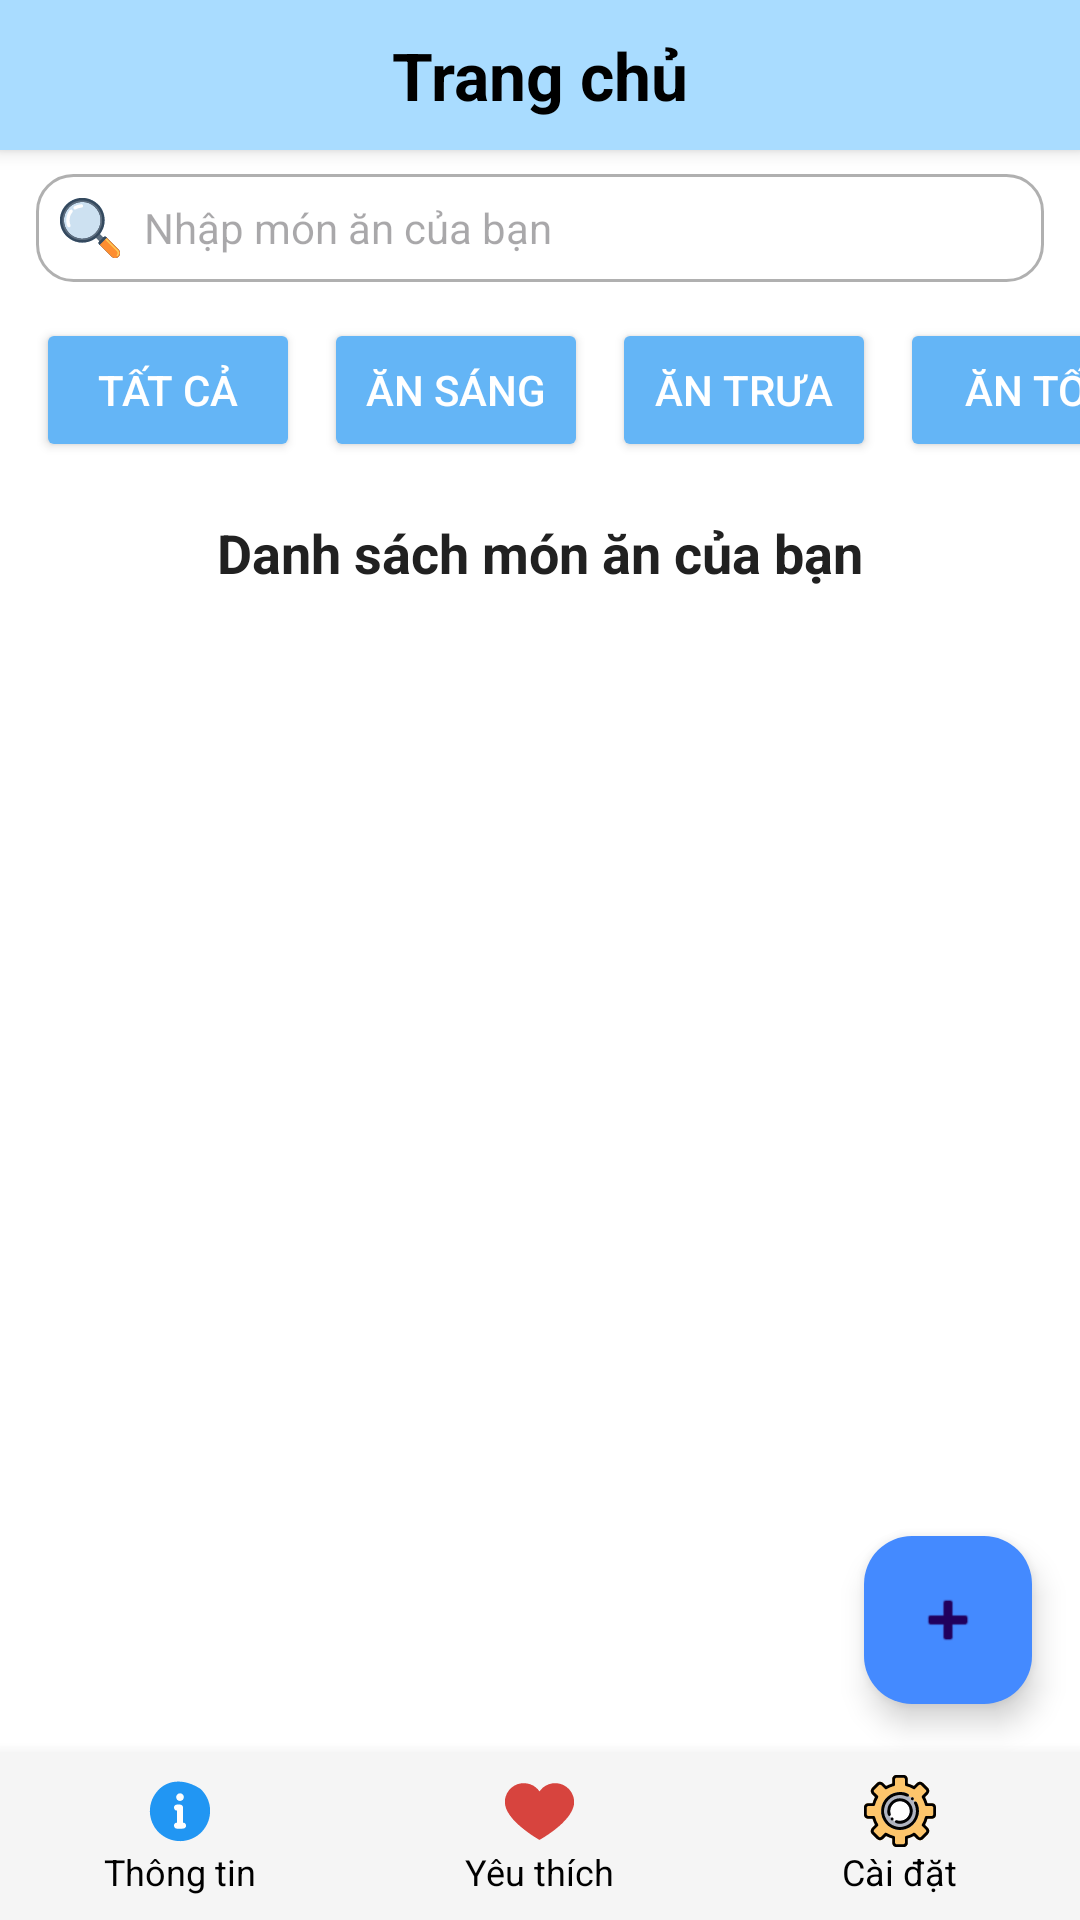

Icons on this 1080×1920 Android screen, each with the point to tap as (x=x, y=y):
Thêm món ăn: (x=948, y=1620)
Tìm kiếm: (x=90, y=228)
